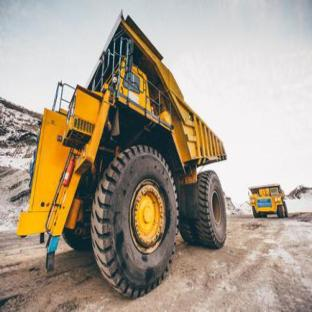Vehicle: (21, 19, 242, 270), (248, 176, 293, 229)
